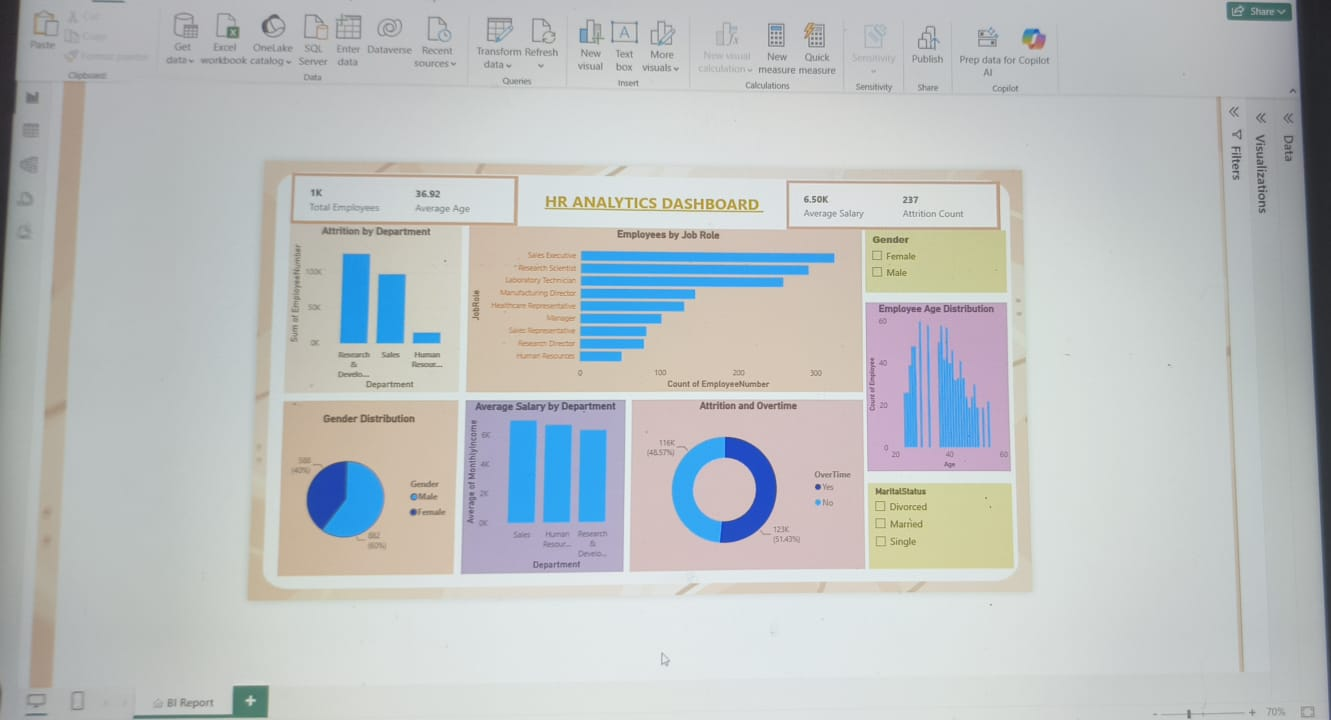

Layout of this report page (visuals, bound fields, positions):
{"tool":"powerbi","page":{"name":"BI Report","canvas":[1280,720],"ordinal":0},"visuals":[{"type":"columnChart","title":"Attrition by Department","fields":{"Category":["WA_Fn-UseC_-HR-Employee-Attrition.Department"],"Y":["Sum(WA_Fn-UseC_-HR-Employee-Attrition.EmployeeNumber)"]},"box":[45.3,105.7,279.9,279.9],"z":0},{"type":"pieChart","title":"Gender Distribution","fields":{"Category":["WA_Fn-UseC_-HR-Employee-Attrition.Gender"],"Y":["CountNonNull(WA_Fn-UseC_-HR-Employee-Attrition.EmployeeNumber)"]},"box":[45.7,398.6,280,282.9],"z":1000},{"type":"clusteredBarChart","title":"Employees by Job Role","fields":{"Category":["WA_Fn-UseC_-HR-Employee-Attrition.JobRole"],"Y":["CountNonNull(WA_Fn-UseC_-HR-Employee-Attrition.EmployeeNumber)"]},"box":[337.1,105.7,662.9,280],"z":2000},{"type":"columnChart","title":"Average Salary  by Department","fields":{"Y":["Avg(WA_Fn-UseC_-HR-Employee-Attrition.MonthlyIncome)"],"Category":["WA_Fn-UseC_-HR-Employee-Attrition.Department"]},"box":[337.1,398.6,261.4,282.9],"z":3000},{"type":"donutChart","title":"Attrition and Overtime","fields":{"Category":["WA_Fn-UseC_-HR-Employee-Attrition.OverTime"],"Y":["Sum(WA_Fn-UseC_-HR-Employee-Attrition.EmployeeNumber)"]},"box":[608.6,398.6,391.4,282.9],"z":4000},{"type":"slicer","fields":{"Values":["WA_Fn-UseC_-HR-Employee-Attrition.Gender"]},"box":[1005.7,105.7,244.3,108.6],"z":5000},{"type":"slicer","fields":{"Values":["WA_Fn-UseC_-HR-Employee-Attrition.MaritalStatus"]},"box":[1005.7,540,244.3,141.4],"z":6000},{"type":"columnChart","title":"Employee Age Distribution","fields":{"Category":["WA_Fn-UseC_-HR-Employee-Attrition.Age"],"Y":["CountNonNull(WA_Fn-UseC_-HR-Employee-Attrition.EmployeeCount)"]},"box":[1005.7,231.4,244.3,288.6],"z":7000},{"type":"cardVisual","fields":{"Data":["WA_Fn-UseC_-HR-Employee-Attrition.Average Salary","WA_Fn-UseC_-HR-Employee-Attrition.Attrition Count"]},"box":[870,20,371.4,85.7],"z":7002},{"type":"textbox","box":[404.3,38.6,442.9,48.6],"z":7003},{"type":"cardVisual","fields":{"Data":["WA_Fn-UseC_-HR-Employee-Attrition.Total Employees","WA_Fn-UseC_-HR-Employee-Attrition.Average Age"]},"box":[45.7,20,371.4,85.7],"z":7004}]}

Visuals, with their boxes on the page's 1280x720 design canvas (x1, y1, x2, y2). These are canvas units, not pixel positions in the 1331x720 screenshot, which may show the page scaled, cropped or inside an application window:
"Attrition by Department" columnChart: (x1=45, y1=106, x2=325, y2=386)
"Gender Distribution" pieChart: (x1=46, y1=399, x2=326, y2=682)
"Employees by Job Role" clusteredBarChart: (x1=337, y1=106, x2=1000, y2=386)
"Average Salary  by Department" columnChart: (x1=337, y1=399, x2=598, y2=682)
"Attrition and Overtime" donutChart: (x1=609, y1=399, x2=1000, y2=682)
slicer - WA_Fn-UseC_-HR-Employee-Attrition.Gender: (x1=1006, y1=106, x2=1250, y2=214)
slicer - WA_Fn-UseC_-HR-Employee-Attrition.MaritalStatus: (x1=1006, y1=540, x2=1250, y2=681)
"Employee Age Distribution" columnChart: (x1=1006, y1=231, x2=1250, y2=520)
cardVisual - WA_Fn-UseC_-HR-Employee-Attrition.Average Salary x WA_Fn-UseC_-HR-Employee-Attrition.Attrition Count: (x1=870, y1=20, x2=1241, y2=106)
textbox: (x1=404, y1=39, x2=847, y2=87)
cardVisual - WA_Fn-UseC_-HR-Employee-Attrition.Total Employees x WA_Fn-UseC_-HR-Employee-Attrition.Average Age: (x1=46, y1=20, x2=417, y2=106)
